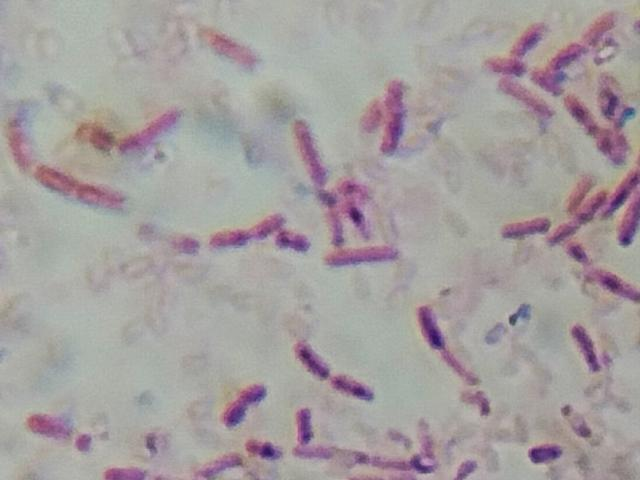E. coli: (26, 410, 96, 454), (124, 107, 185, 152), (295, 122, 336, 187), (500, 77, 550, 120), (222, 382, 272, 424), (214, 32, 264, 73), (584, 119, 628, 162), (82, 177, 128, 217), (595, 264, 640, 304), (324, 247, 402, 270), (33, 164, 81, 198), (296, 337, 331, 382), (13, 130, 43, 181), (573, 324, 602, 376), (502, 212, 549, 244), (417, 301, 447, 351), (586, 10, 623, 46), (512, 20, 547, 58), (198, 445, 235, 480), (608, 170, 639, 210), (215, 229, 253, 259), (385, 450, 427, 477), (569, 91, 598, 129), (550, 41, 584, 73), (618, 195, 640, 244), (82, 120, 115, 152), (278, 226, 311, 257), (242, 434, 275, 464), (534, 65, 564, 97), (489, 55, 523, 83), (528, 442, 565, 465), (294, 407, 316, 445), (568, 171, 589, 210), (385, 115, 404, 156), (106, 464, 154, 480), (386, 78, 406, 116), (254, 208, 281, 236), (444, 459, 479, 480), (363, 99, 381, 131)
